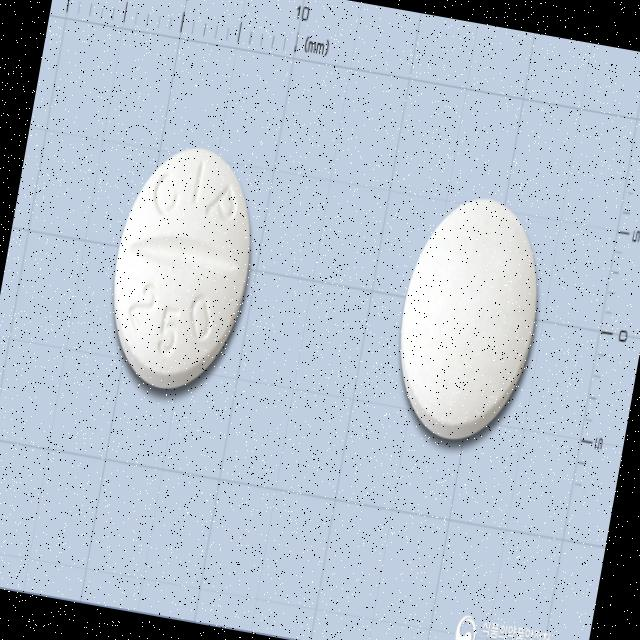Propocin Tab: (96, 138, 268, 400)
